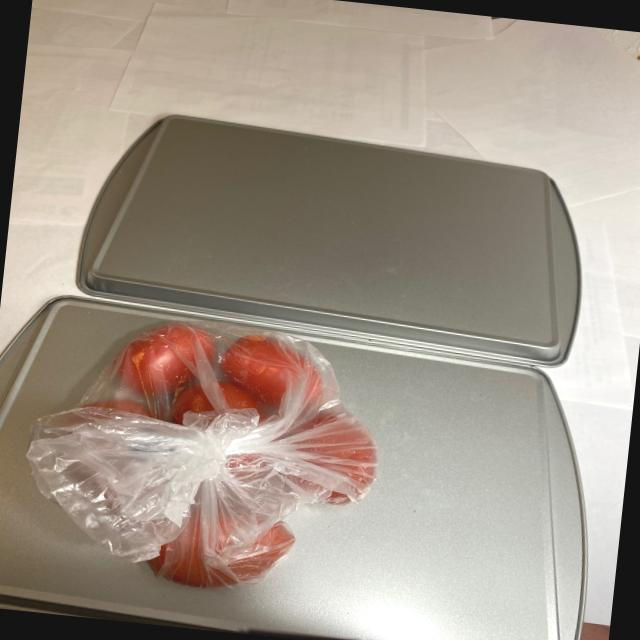tomato: (51, 311, 382, 604)
